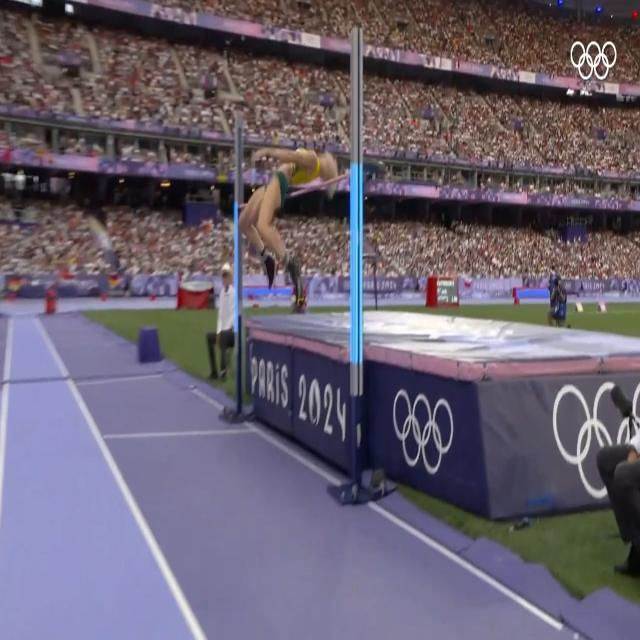jump: (233, 139, 339, 310)
